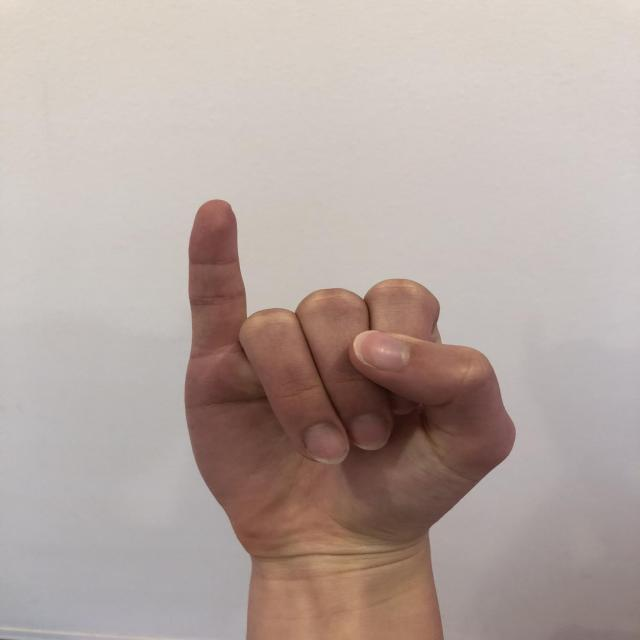I: (173, 193, 529, 563)
